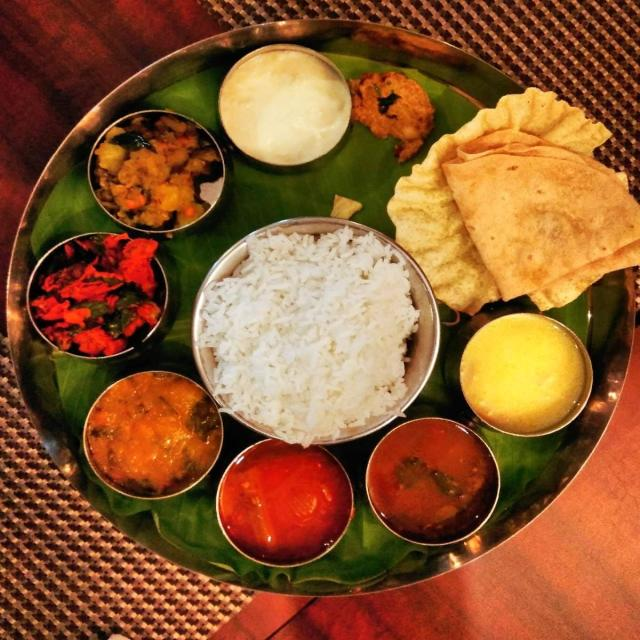veg meals: (5, 20, 640, 582)
